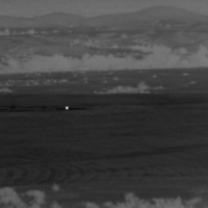Target: (64, 105, 70, 111)
